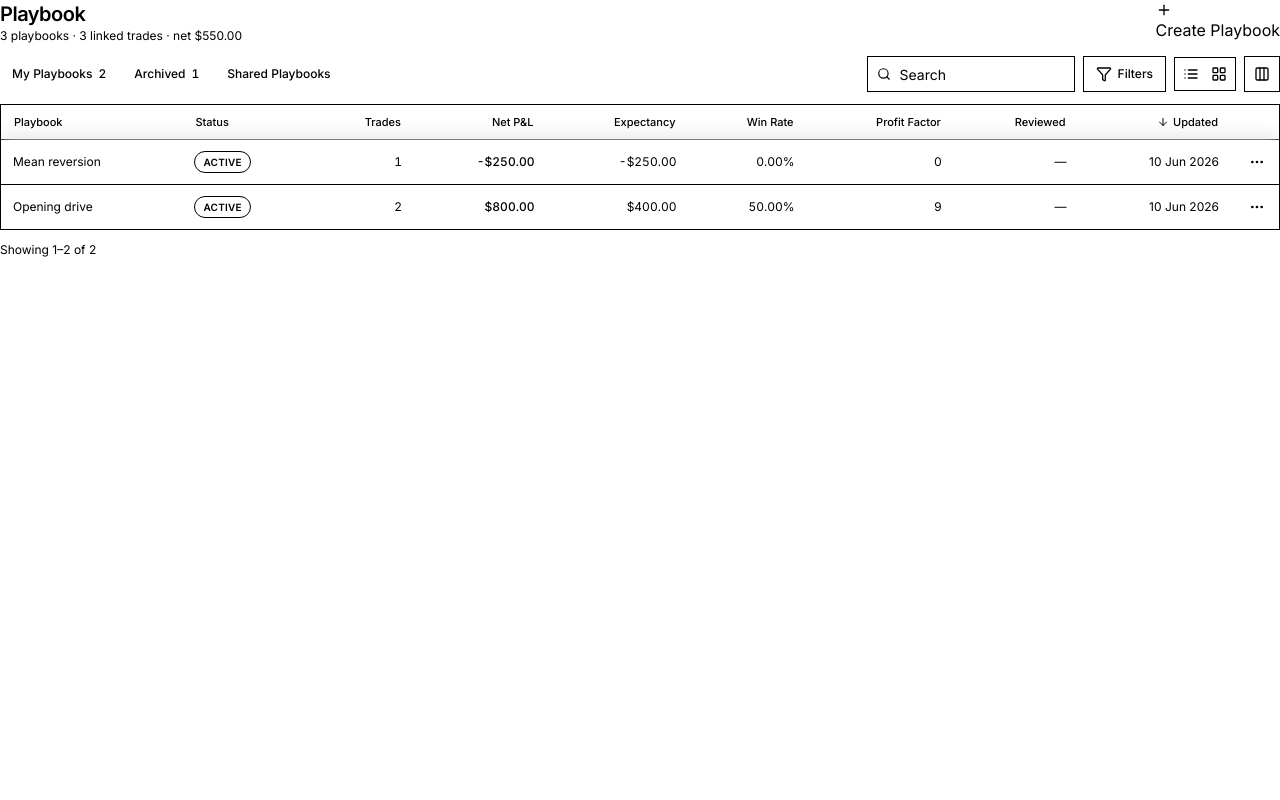
it: row actions › cancels a delete without touching the server
What coordinates should you click on to do the following:
click the button named "actions for Opening drive"
I would click on:
 (1257, 207)
Its box is left=1243, top=193, right=1271, bottom=221.
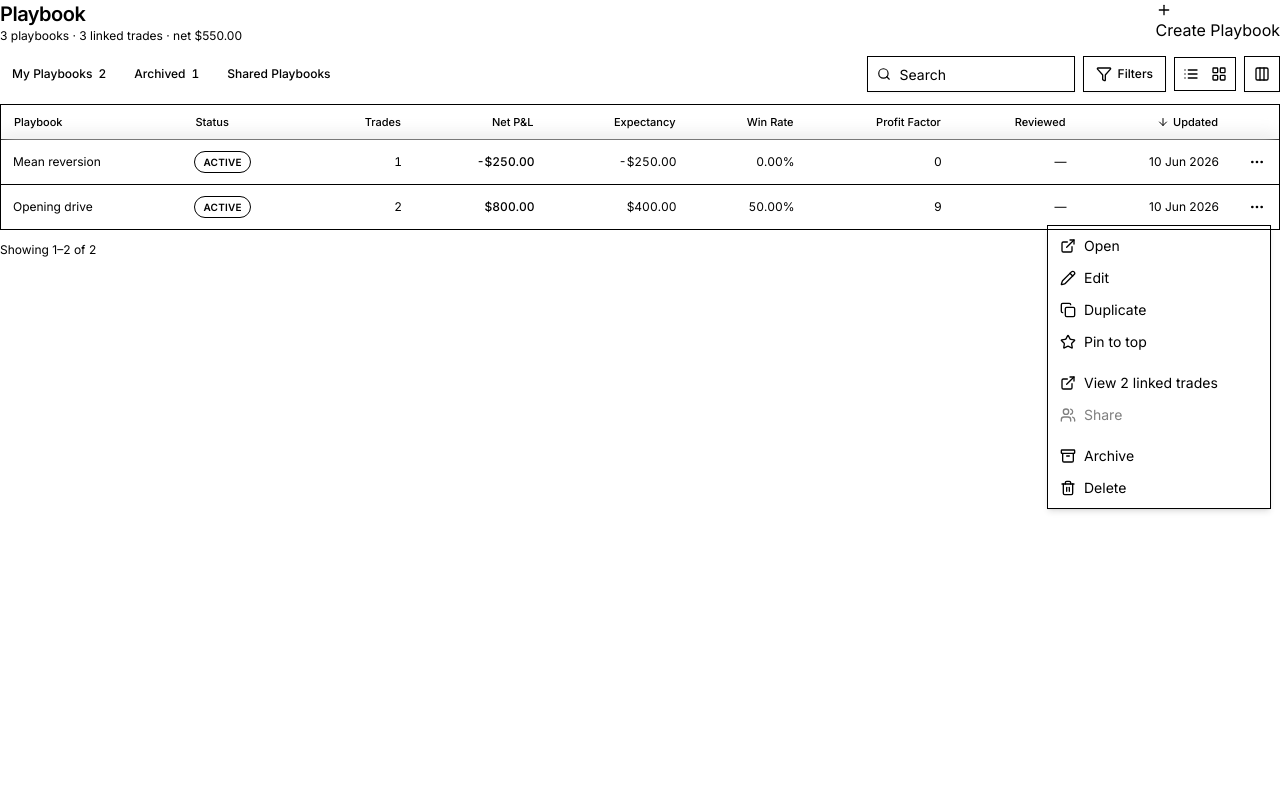
What coordinates should you click on to do the following:
click the menu item "Delete"
I would click on:
 (1093, 488)
Its box is left=1060, top=479, right=1126, bottom=496.
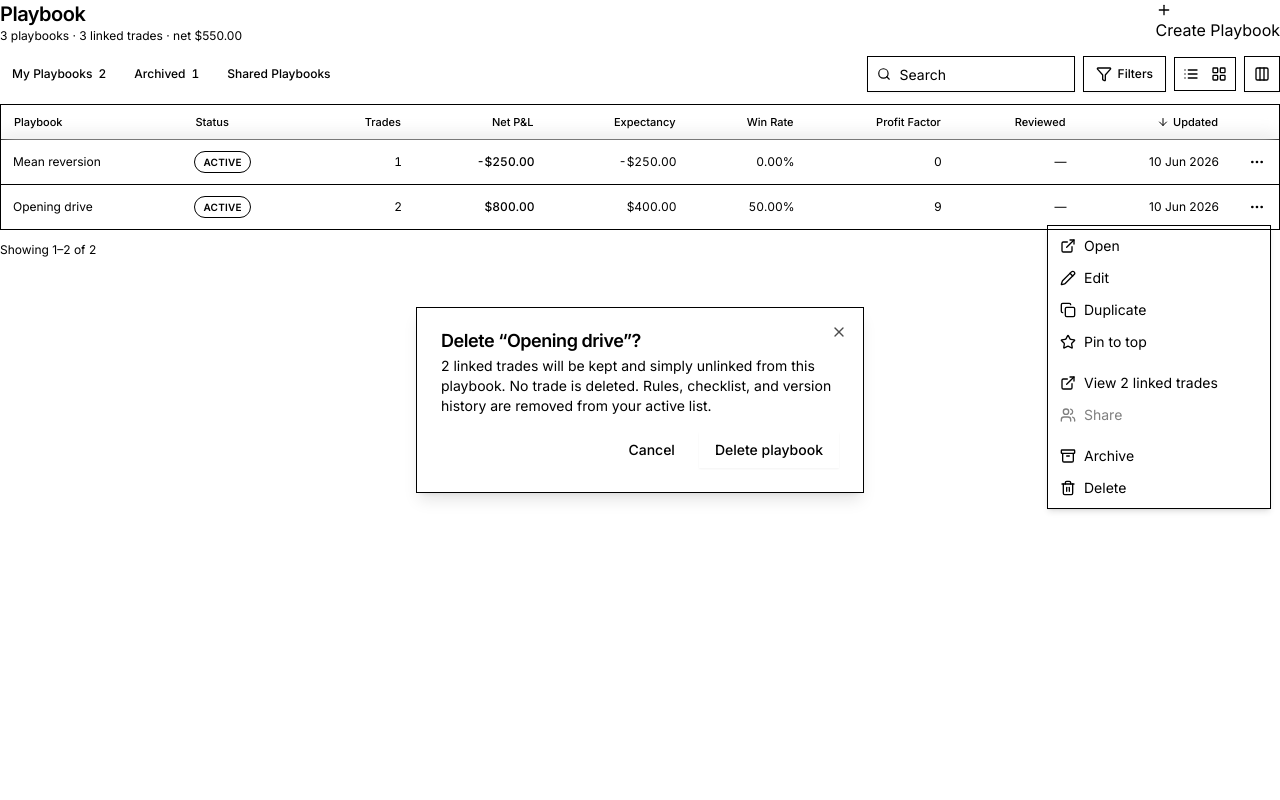
What coordinates should you click on to do the following:
click the button "Cancel"
I would click on:
 (652, 450)
Its box is left=612, top=432, right=691, bottom=468.
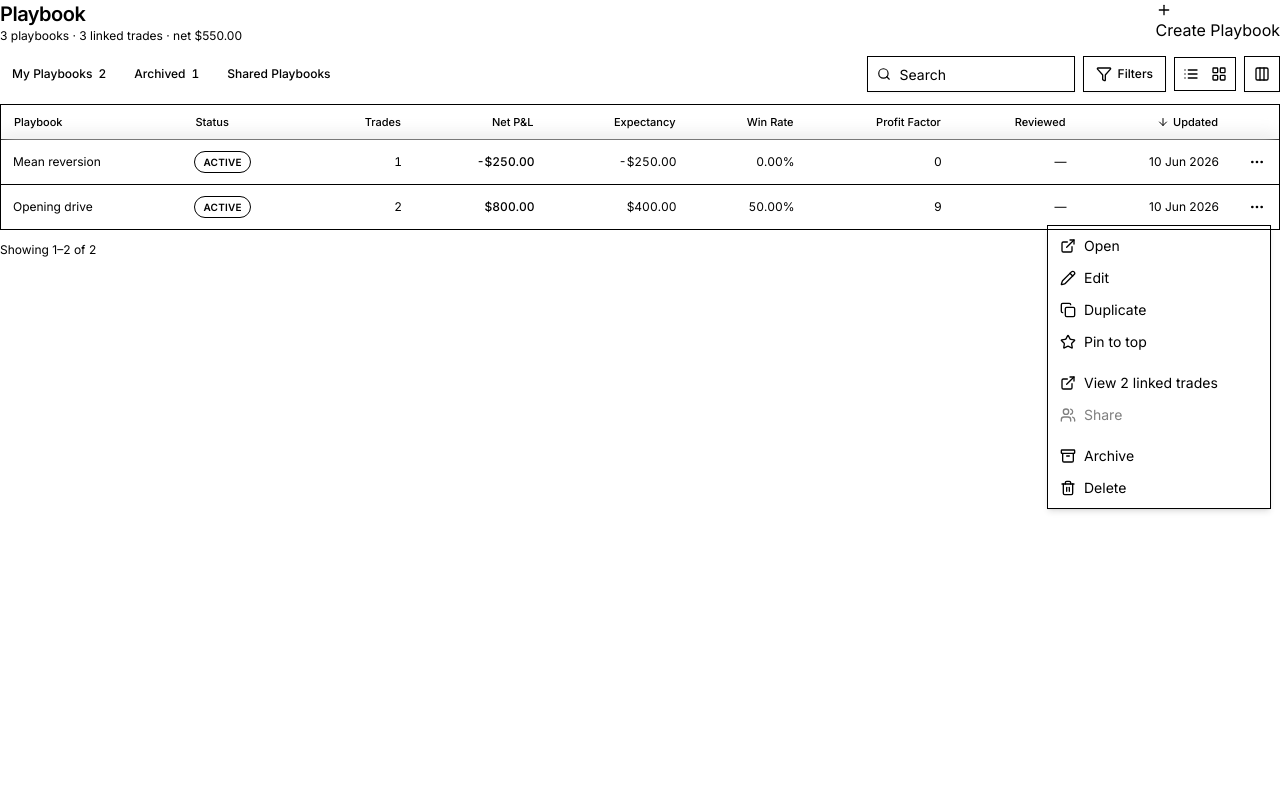
Check: the dialog is gone
